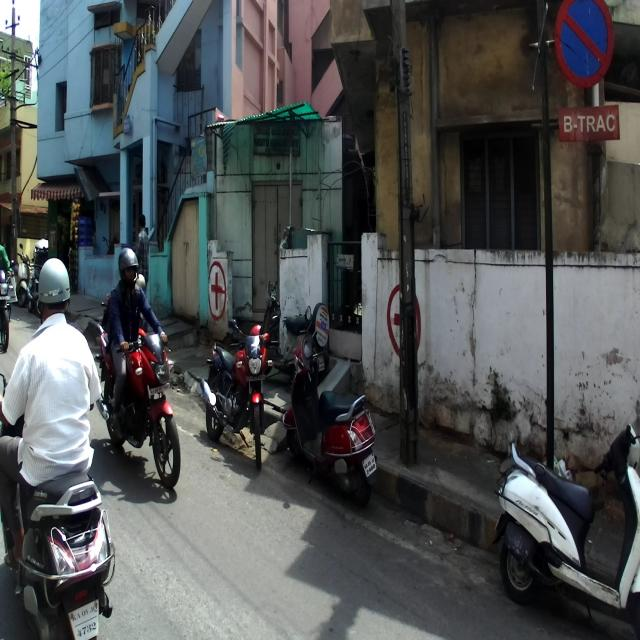motorcycle: (94, 329, 180, 489), (200, 318, 275, 470), (97, 274, 150, 338)
scooter: (492, 421, 639, 637), (0, 370, 117, 640), (280, 328, 378, 508), (259, 278, 330, 378)
